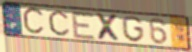6: (147, 17, 168, 45)
C: (21, 6, 46, 37), (47, 10, 71, 37)
E: (70, 10, 98, 41)
G: (121, 15, 146, 44)
X: (94, 12, 123, 43)
